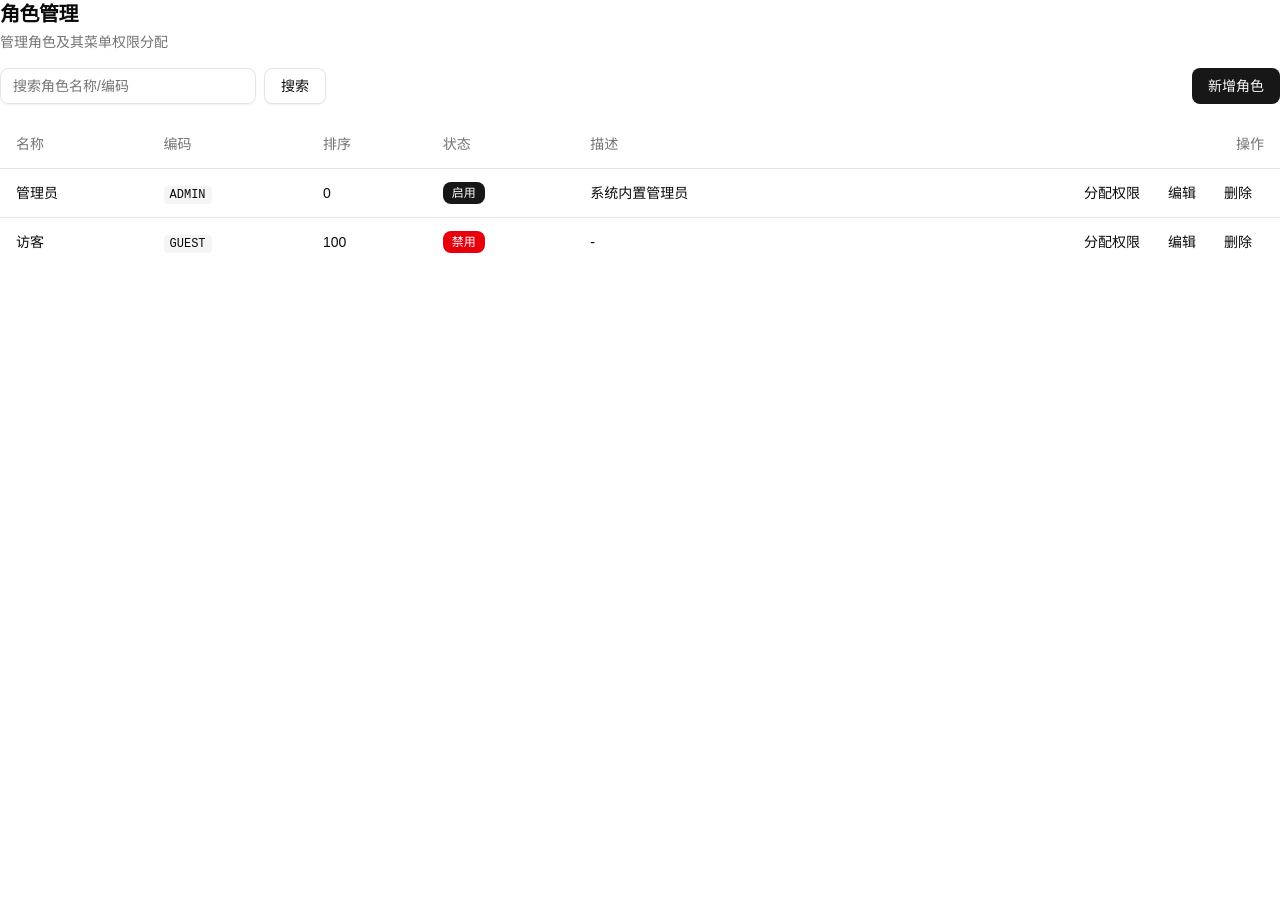
Test: RolePage › 树形勾选联动：勾选子节点自动带上全部祖先
Expected: the text "管理员" is shown, [0,168,148,217]
Click the button "分配权限" in the row of "ADMIN": (1112, 192) [1072,176,1152,208]
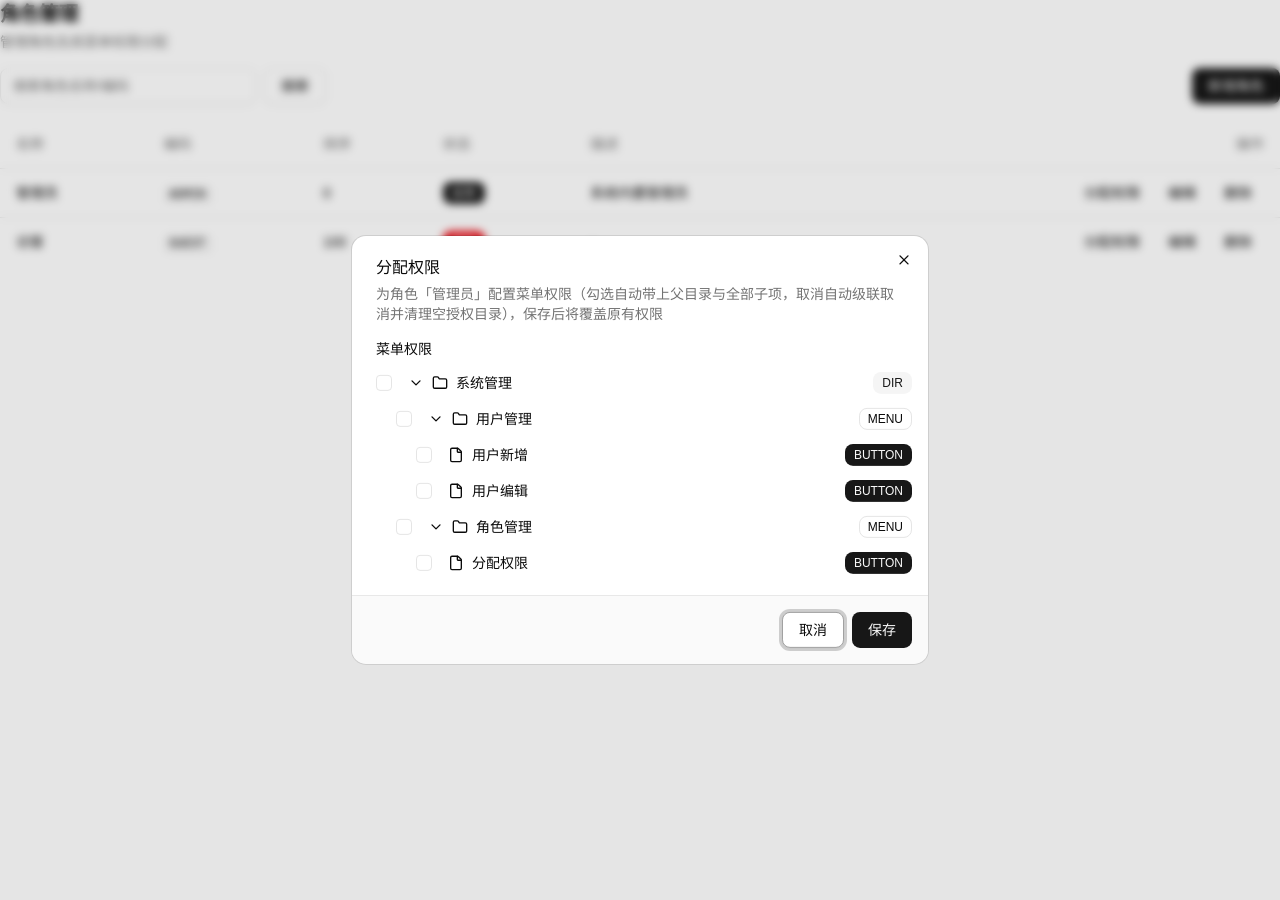
Now the checkbox named "系统管理" is not checked, box [376,375,392,391]
Click the checkbox named "用户新增": (424, 455) [416,447,432,463]
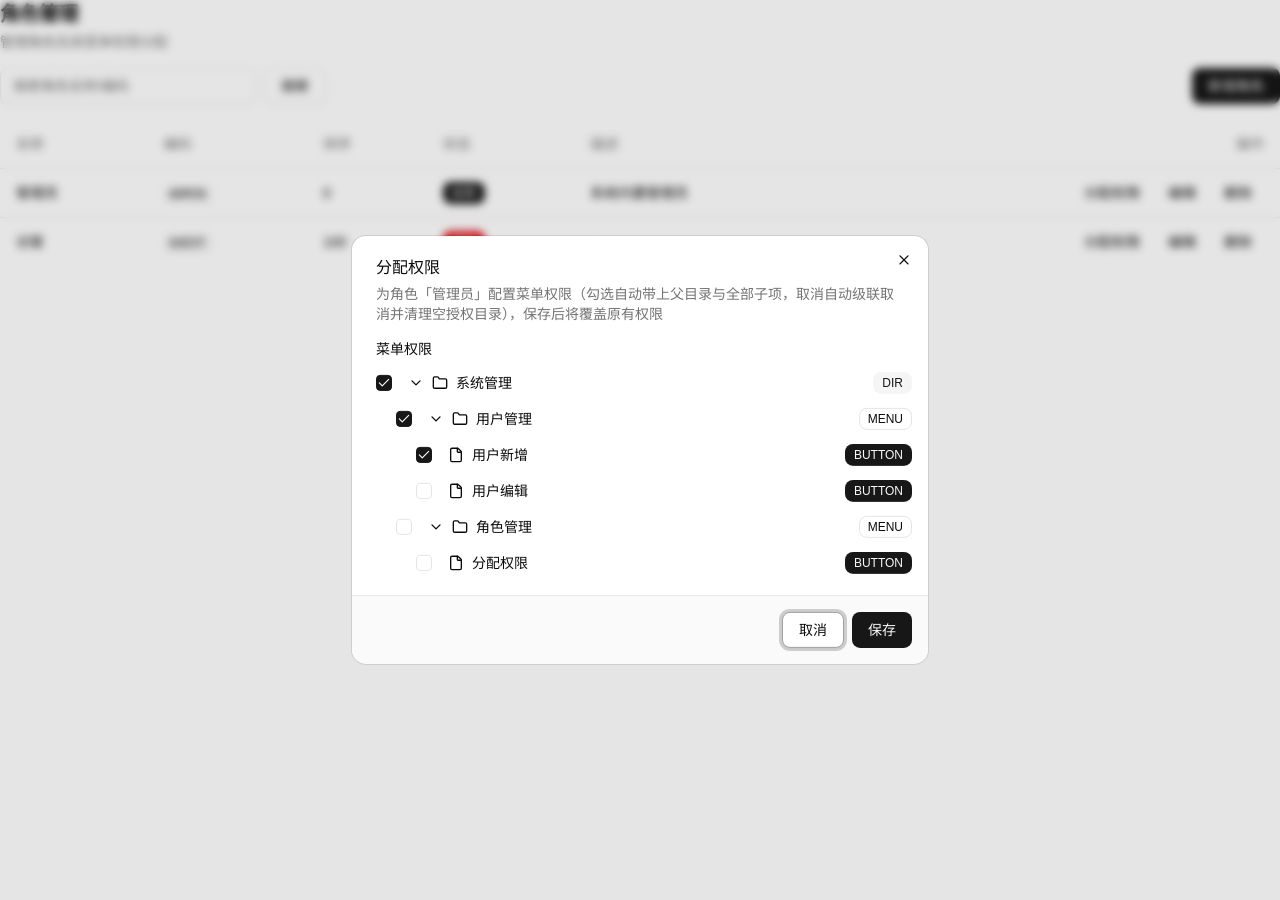
Now the checkbox named "用户新增" is checked, box [416,447,432,463]
Now the checkbox named "用户管理" is checked, box [396,411,412,427]
Now the checkbox named "系统管理" is checked, box [376,375,392,391]
